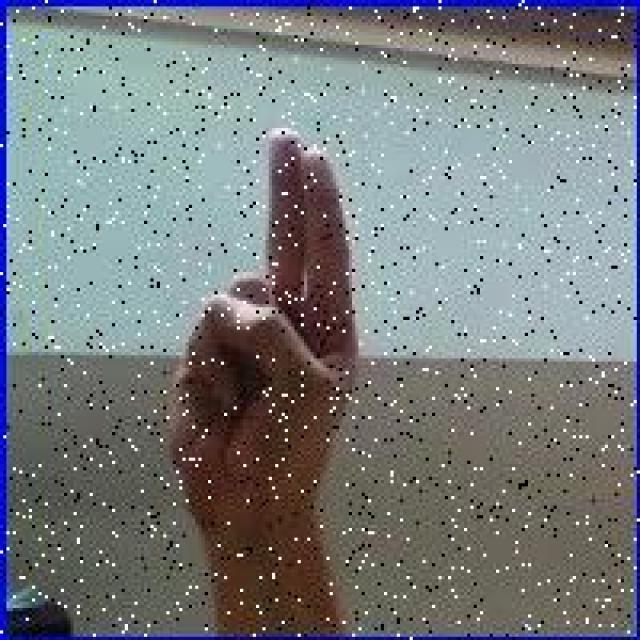U: (165, 118, 360, 534)
